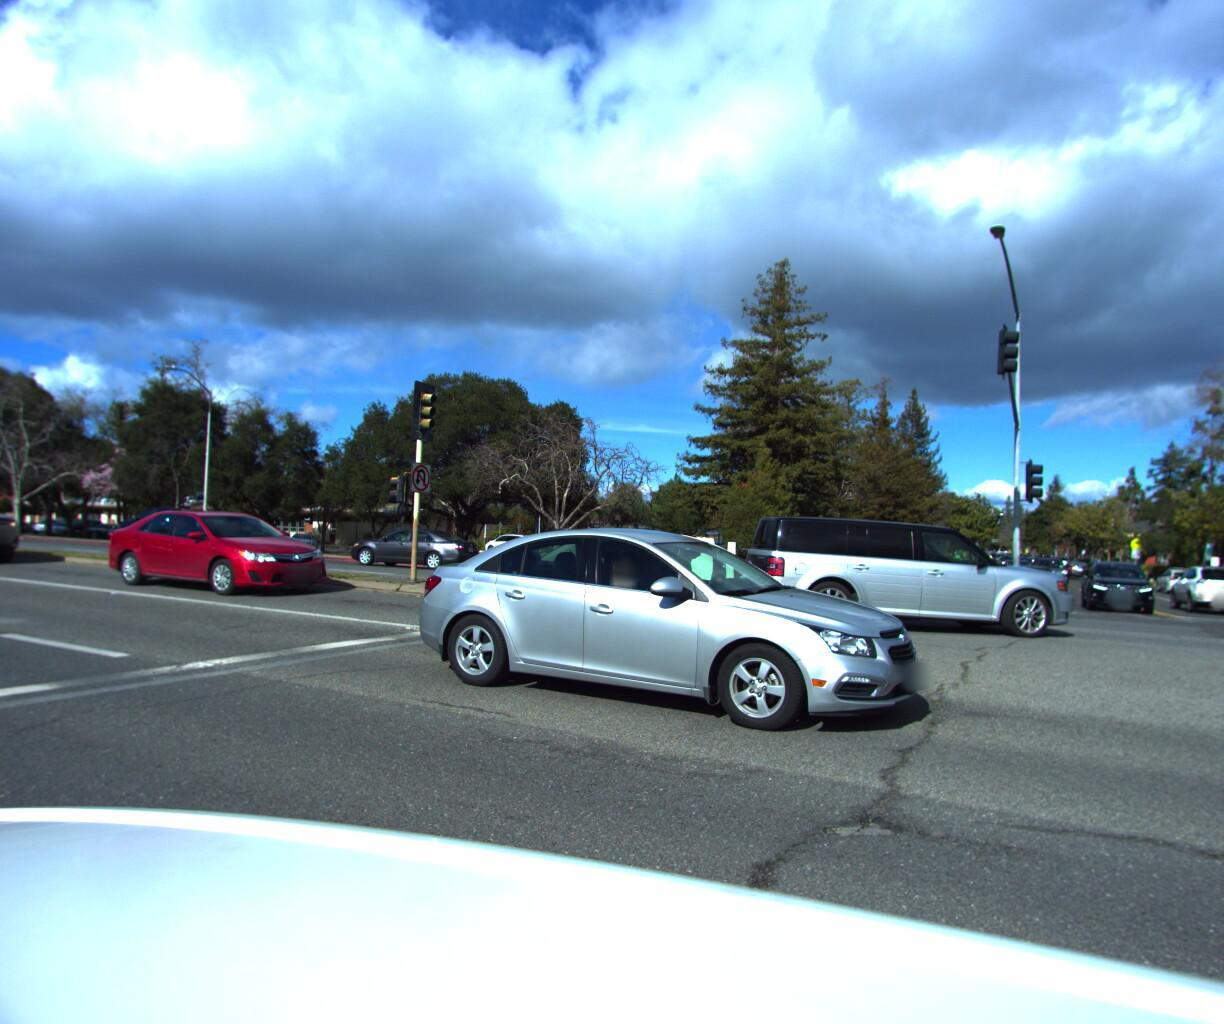car: (405, 520, 957, 754), (732, 513, 1092, 645), (93, 513, 341, 605), (343, 526, 482, 581), (102, 509, 236, 557), (1073, 564, 1157, 622), (1163, 556, 1224, 614), (0, 490, 38, 577), (1149, 569, 1202, 603), (1018, 563, 1069, 596)
